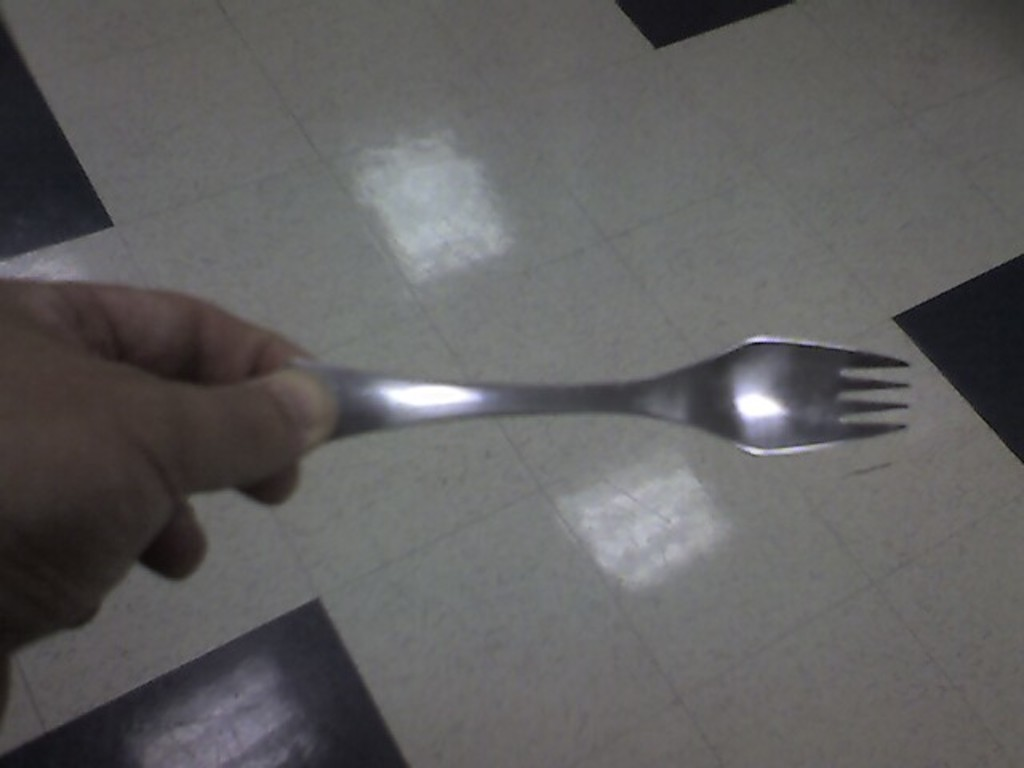fork: (280, 335, 912, 457)
